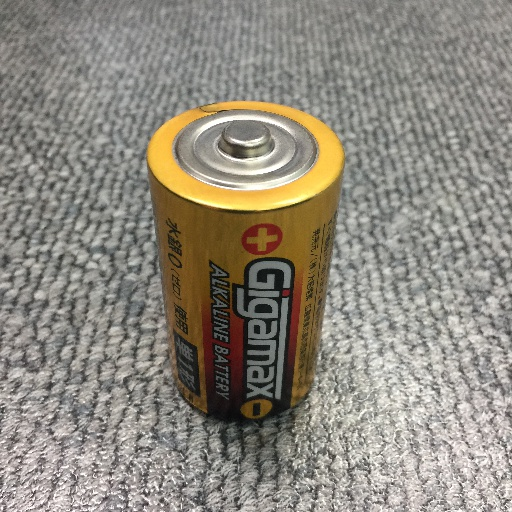Battery_0: (140, 91, 353, 435)
